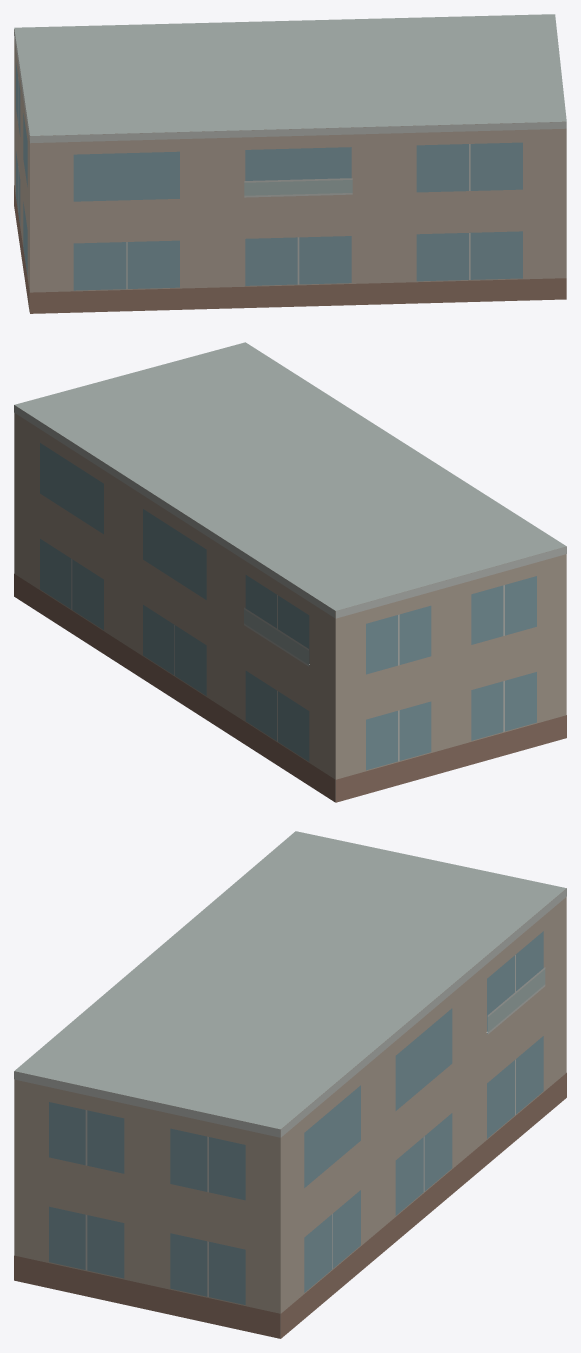
Rendered from survey-upis-32852771.glb.
3 renders of one model, top to bottom at view 1: azimuth 30°, elevation 25°; view 2: azimuth 150°, elevation 25°; view 3: azimuth 270°, elevation 25°, orthographic. The views are drawn at different scales.
Parts seen in each view (by area): view 1: survey-upis-32852771.tmp; view 2: survey-upis-32852771.tmp; view 3: survey-upis-32852771.tmp.
Part boxes in pixels (x1,y1,x2,y2): survey-upis-32852771.tmp: (14, 14, 566, 313); survey-upis-32852771.tmp: (14, 342, 566, 802); survey-upis-32852771.tmp: (14, 831, 566, 1338).
Size of the model in its own units: 18.65 by 6.1 by 14.6.
